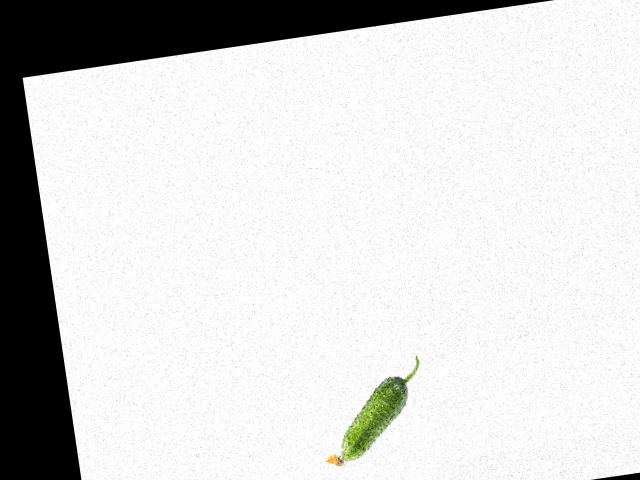cucumber: (312, 356, 432, 468)
